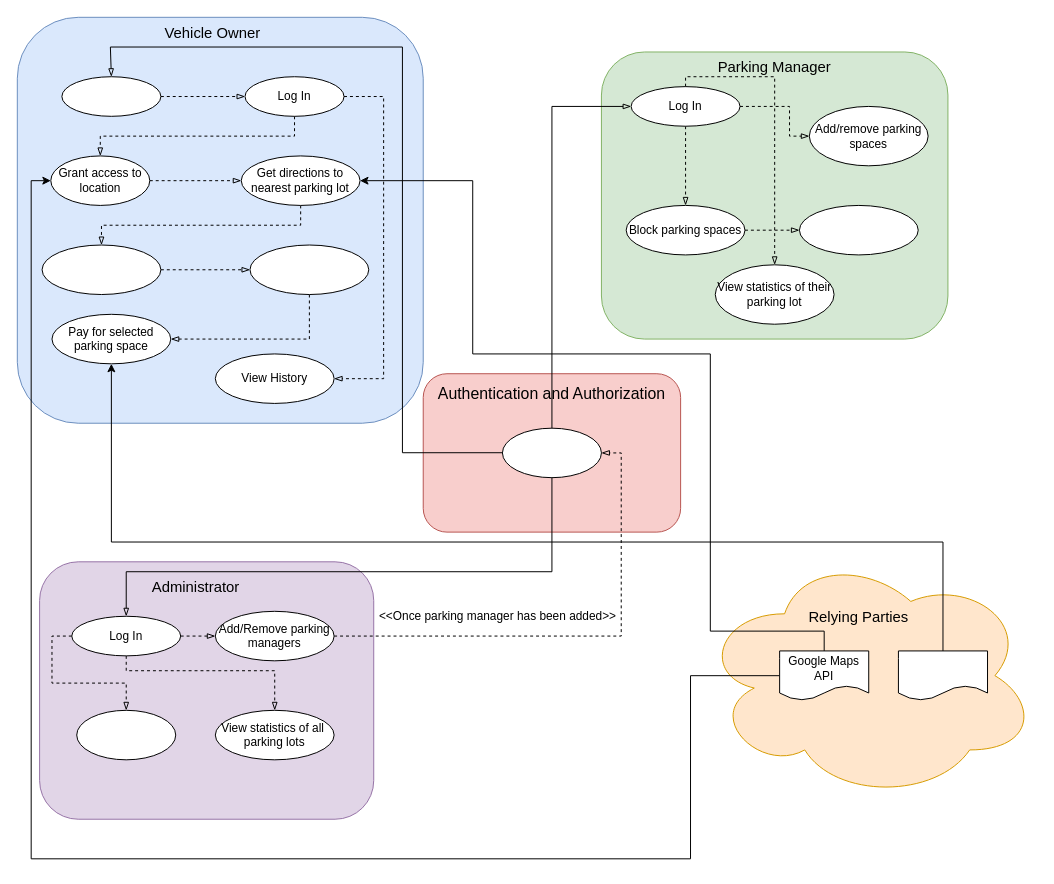
Some shapes in this 1054 by 884 pixel diagram are drawn without their labels. The centre of each missing label's shape, as x and y in pixels:
"Ban Users" belongs at (126,734).
"Daraja API (M-Pesa Payment)" belongs at (942,675).
"Log In/Sign Up" belongs at (551,452).
"Order towing service" belongs at (858,229).
"Park in selected parking space" belongs at (309,269).
"Select an available parking space" belongs at (101,269).
"Sign Up" belongs at (111,96).
